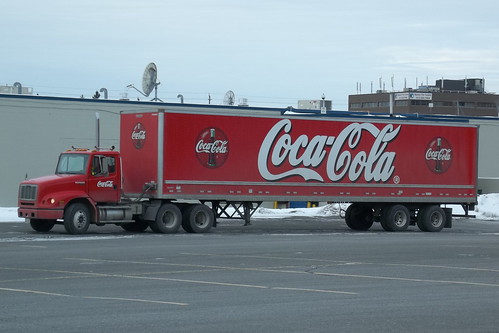truck: (16, 106, 479, 235)
